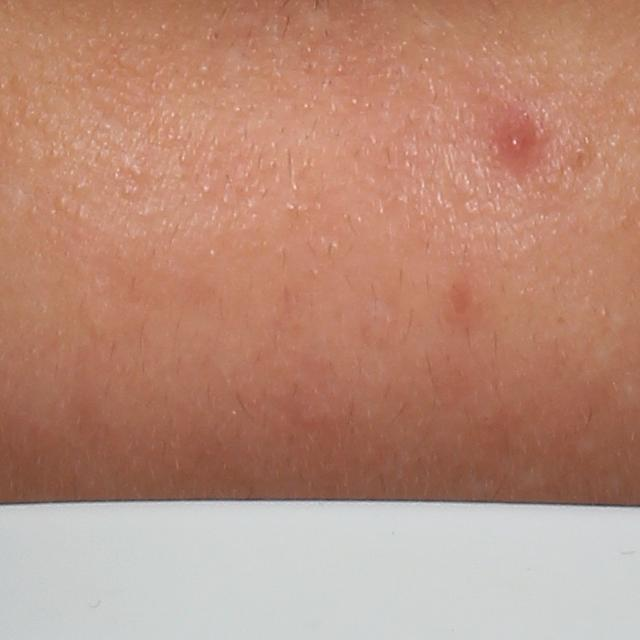papule: (492, 122, 541, 173)
